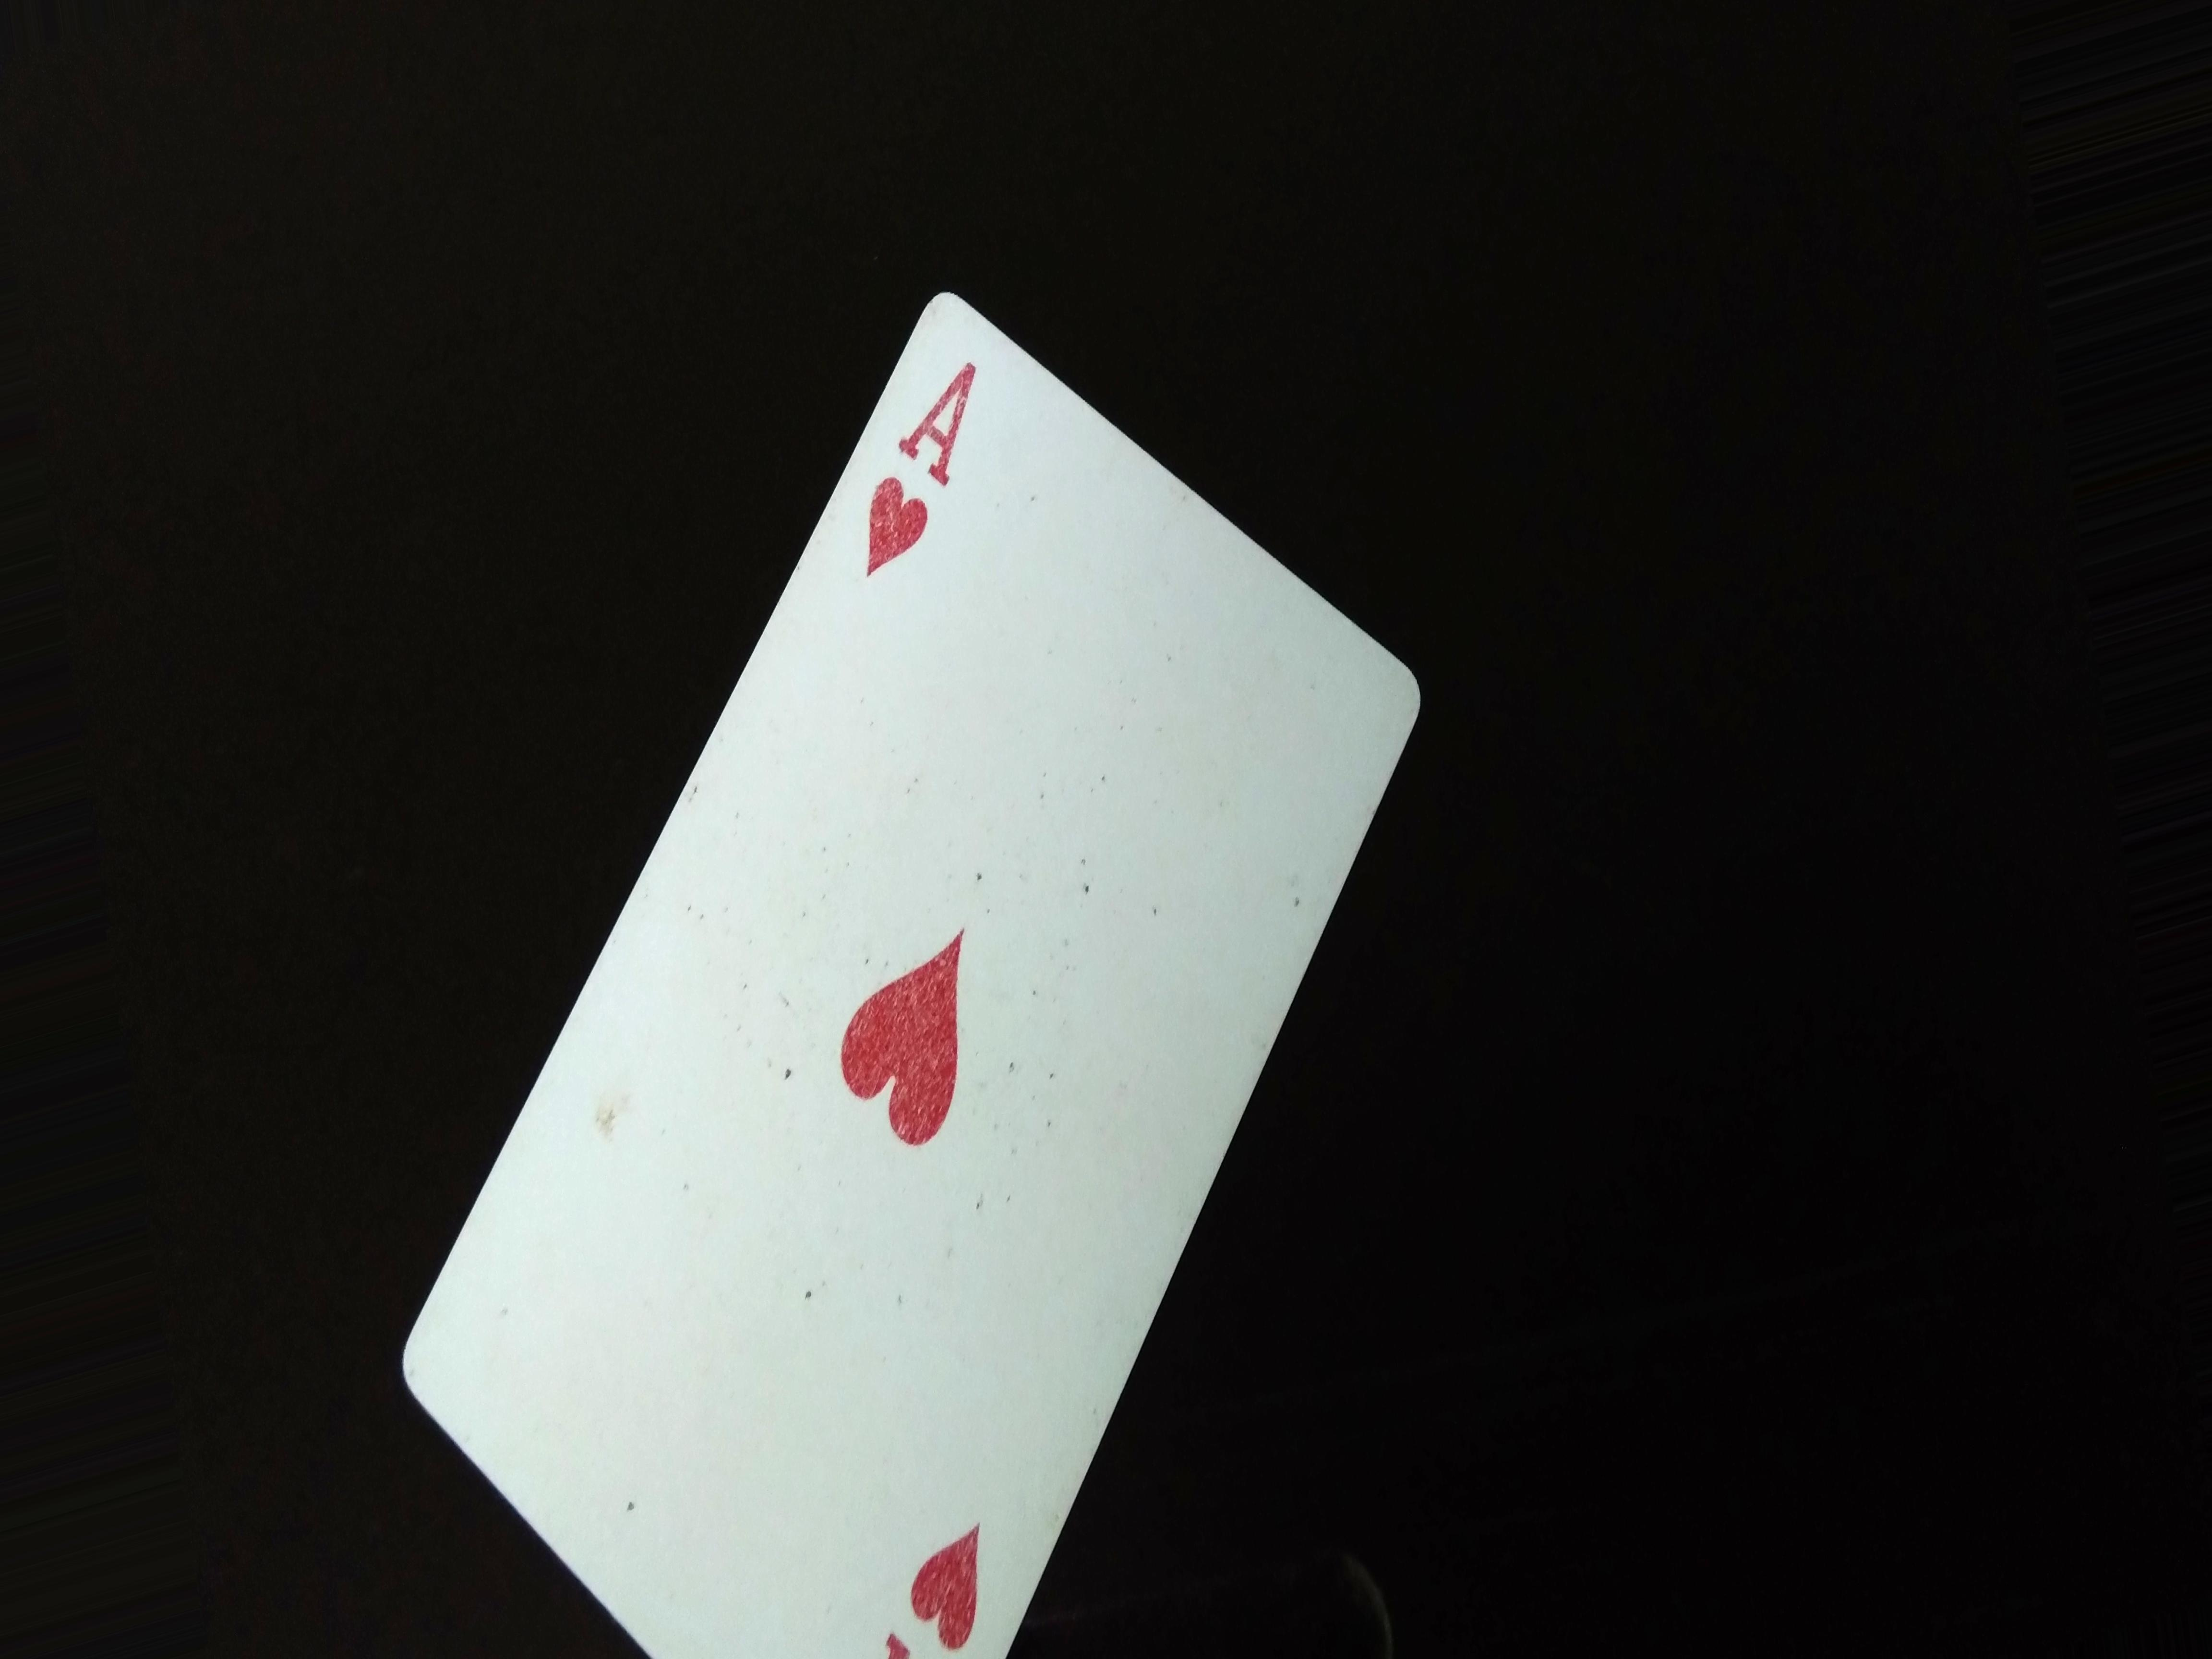AH: (843, 347, 984, 606)
